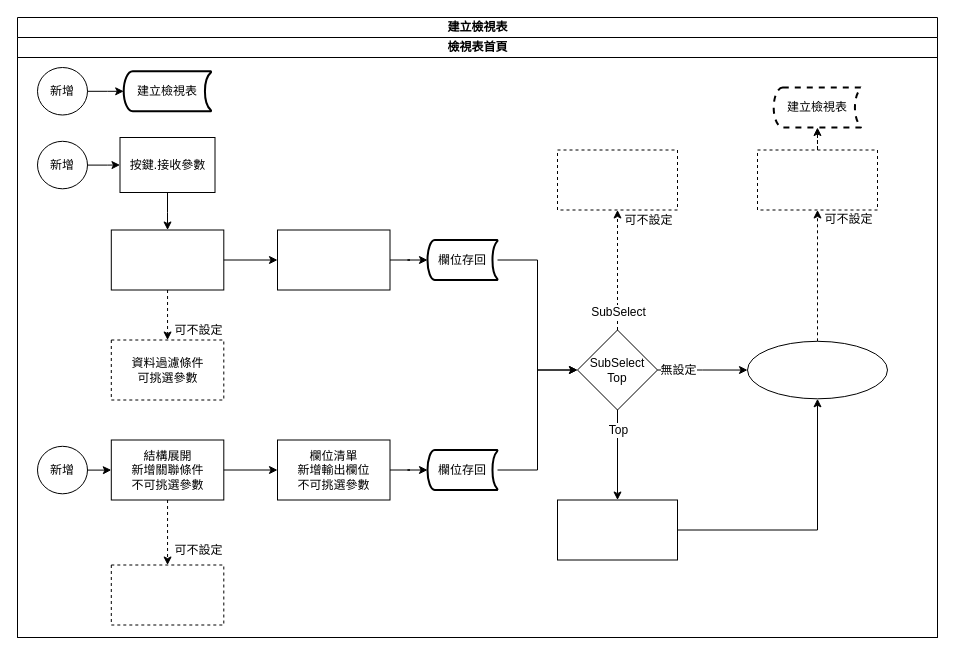
Image size: 955x655. Some labels were removed from this diagram. Here are the shapes that lost their labels. From the top down, the centre of each, then its label:
At point 617,179: "按鍵.排序依據".
At point 817,179: "按鍵.自動彙總".
At point 167,259: "結構展開 新增關聯條件 可挑選參數".
At point 333,259: "欄位清單 新增輸出欄位 可挑選參數".
At point 817,369: "檢視表返回瀏覽模式".
At point 617,529: "按鍵.排序設定".
At point 167,594: "資料過濾條件 不可挑選參數".
